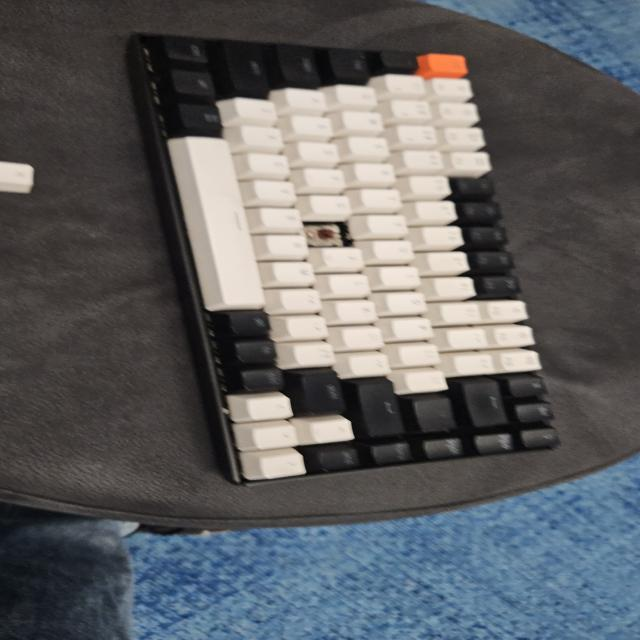C: (305, 224, 350, 243)
